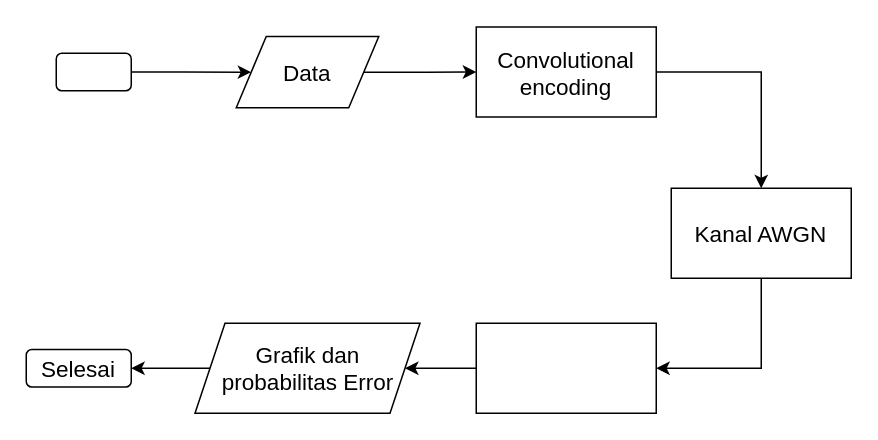
Some shapes in this 878 by 440 pixel diagram are drawn without their labels. The centre of each missing label's shape, as x and y in pixels:
Mulai: point (93, 71)
Viterbi Decoding: point (565, 367)
